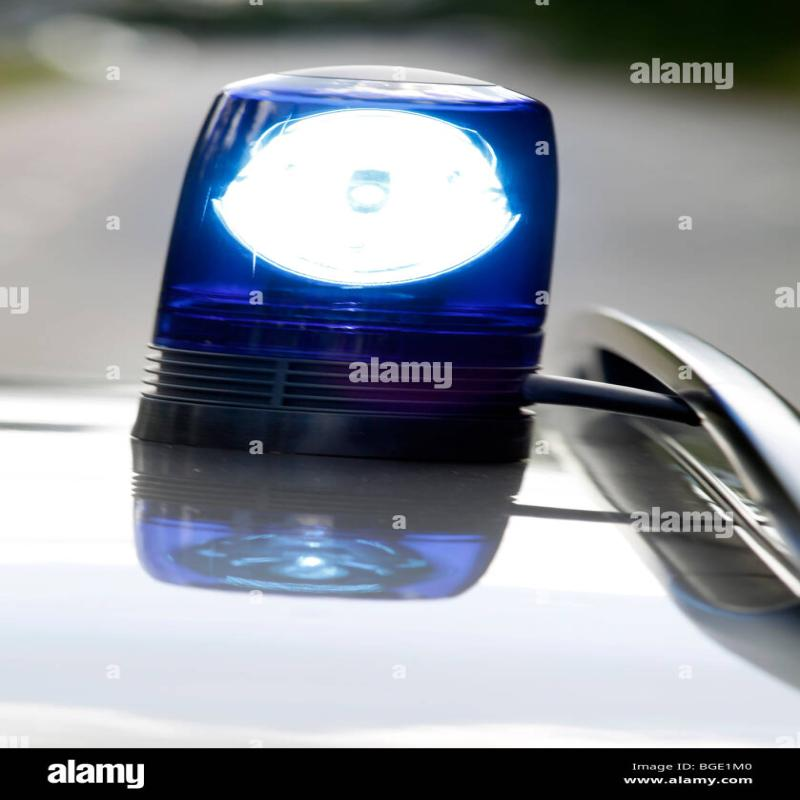AmbulanceSiren: (115, 27, 659, 458)
